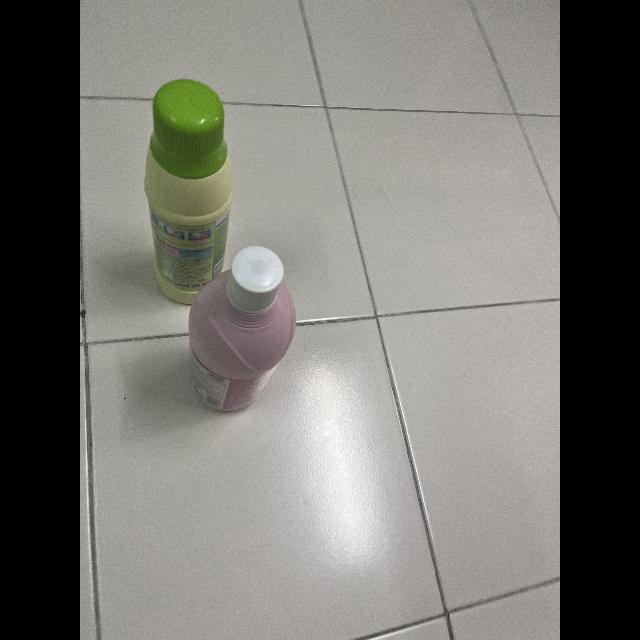chemical_plastic_bottle: (143, 71, 230, 302), (190, 245, 300, 418)
